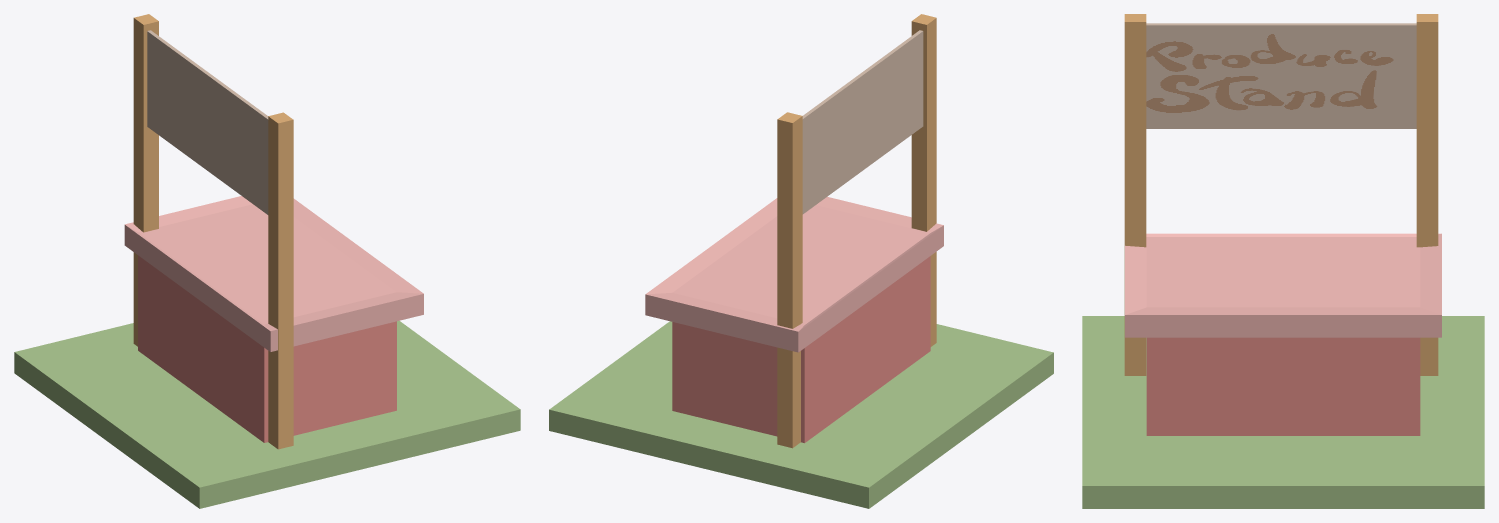
The model's file is produce_stand.fbx.
3 renders of one model, left to right at view 1: azimuth 30°, elevation 25°; view 2: azimuth 150°, elevation 25°; view 3: azimuth 270°, elevation 25°, orthographic. The views are drawn at different scales.
Visible parts, largest first — view 1: produceStand; view 2: produceStand; view 3: produceStand.
Boxes of the visible parts, box(x1,y1,x2,y2) form: produceStand: box(14, 14, 520, 508); produceStand: box(549, 14, 1053, 508); produceStand: box(1082, 14, 1484, 508).
Bounding box in the file's own units: 400 × 414 × 400.
